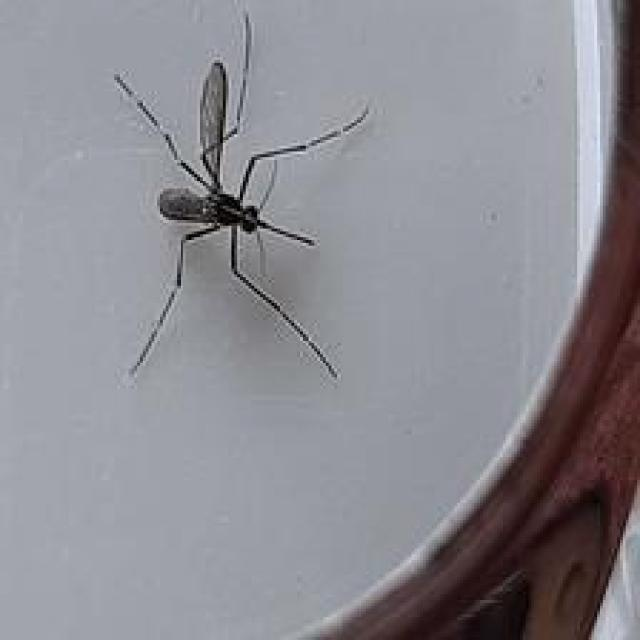Aedes albopictus: (111, 11, 372, 383)
